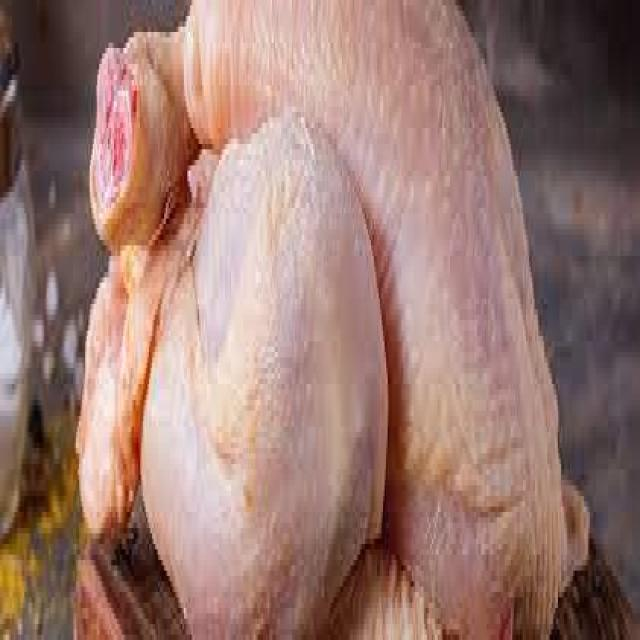Chicken: (74, 0, 592, 640)
